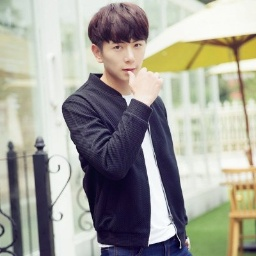face: (88, 1, 149, 84)
